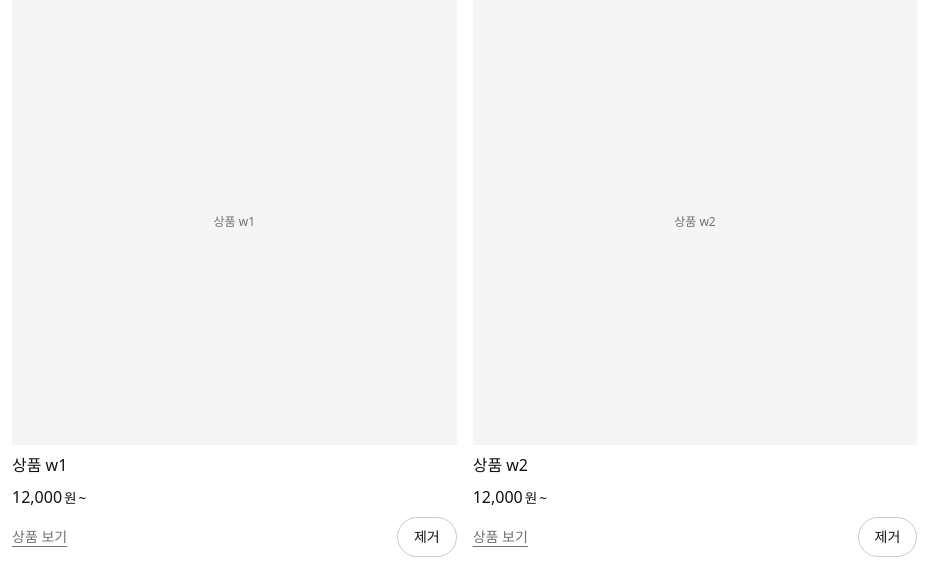
Test: <WishlistClient> › 제거는 낙관 업데이트 — 응답 전 목록에서 즉시 사라진다
Check: the number of list items with test id "wishlist-item" is 2, box [12,0,457,557]; [473,0,917,557]
Click the 1st button "제거": click(427, 537) [397,517,457,557]
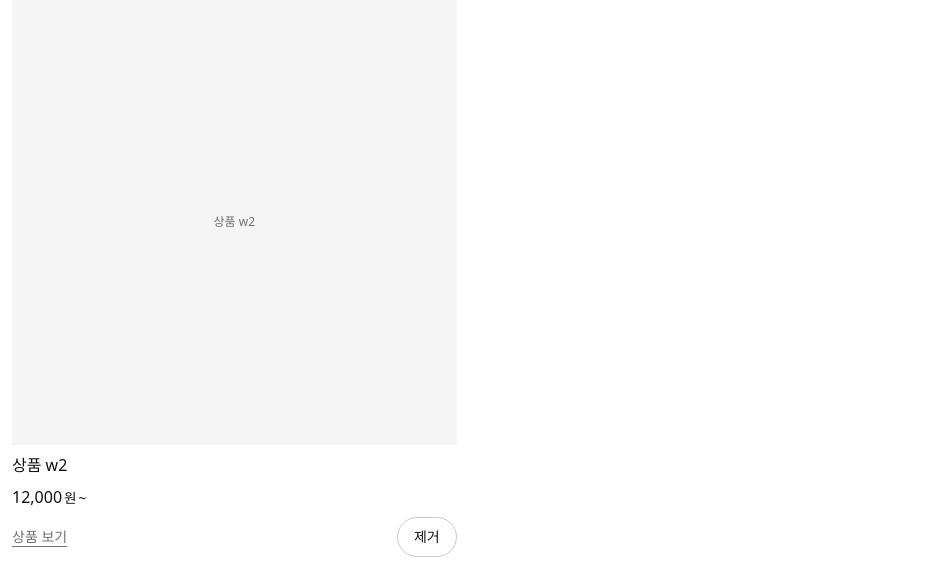
Check: the number of list items with test id "wishlist-item" is 1, box [12,0,457,557]
